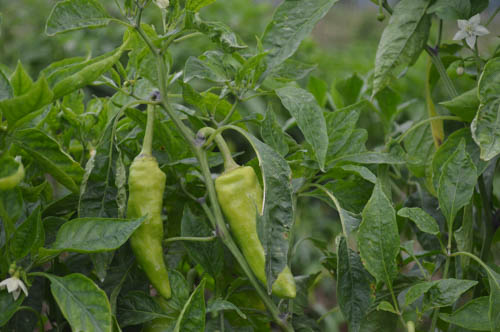ChiliPepper: (215, 166, 297, 297), (124, 158, 175, 300)
